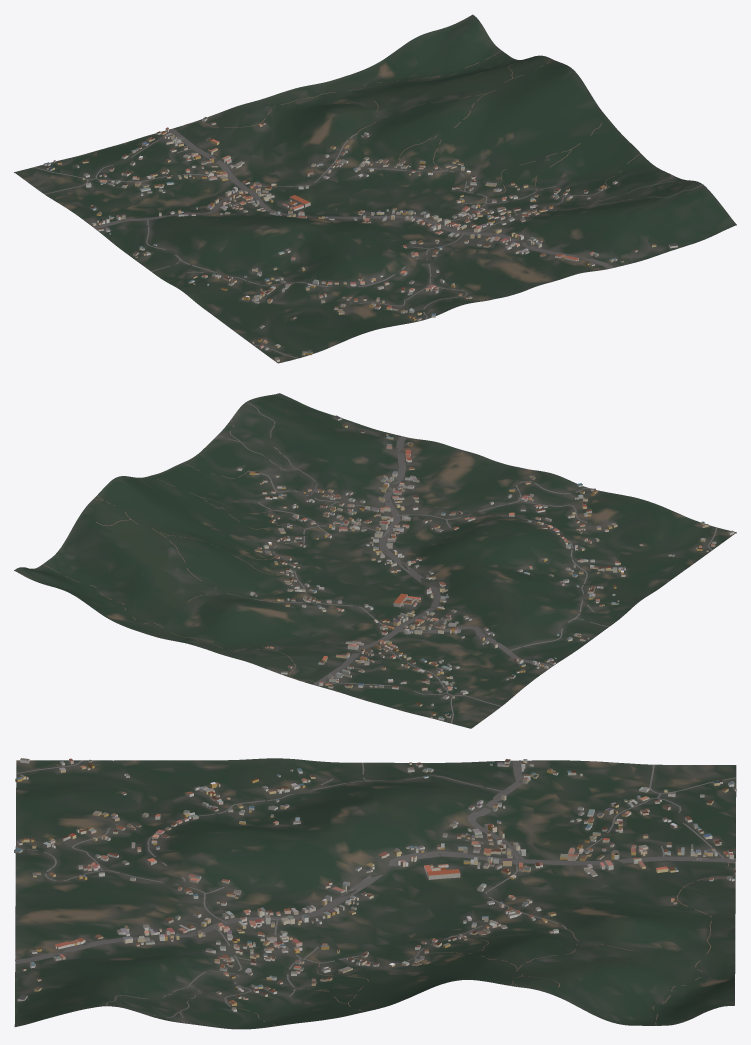
The picture shows the model from 3 angles, top to bottom: view 1: azimuth 30°, elevation 25°; view 2: azimuth 150°, elevation 25°; view 3: azimuth 270°, elevation 25°; orthographic projection. The views are drawn at different scales.
Visible parts, largest first — view 1: ground, buildings, roads; view 2: ground, buildings, roads; view 3: ground, buildings, roads.
Boxes of the visible parts, x1,y1,x2,y2 form: ground: (14, 14, 736, 363); buildings: (43, 117, 677, 361); roads: (34, 50, 702, 358); ground: (14, 393, 736, 728); buildings: (237, 415, 734, 720); roads: (43, 402, 717, 723); ground: (14, 758, 736, 1029); buildings: (14, 758, 736, 1011); roads: (15, 760, 735, 1025).
Bounding box in the file's own units: 1403 × 194 × 1408.
